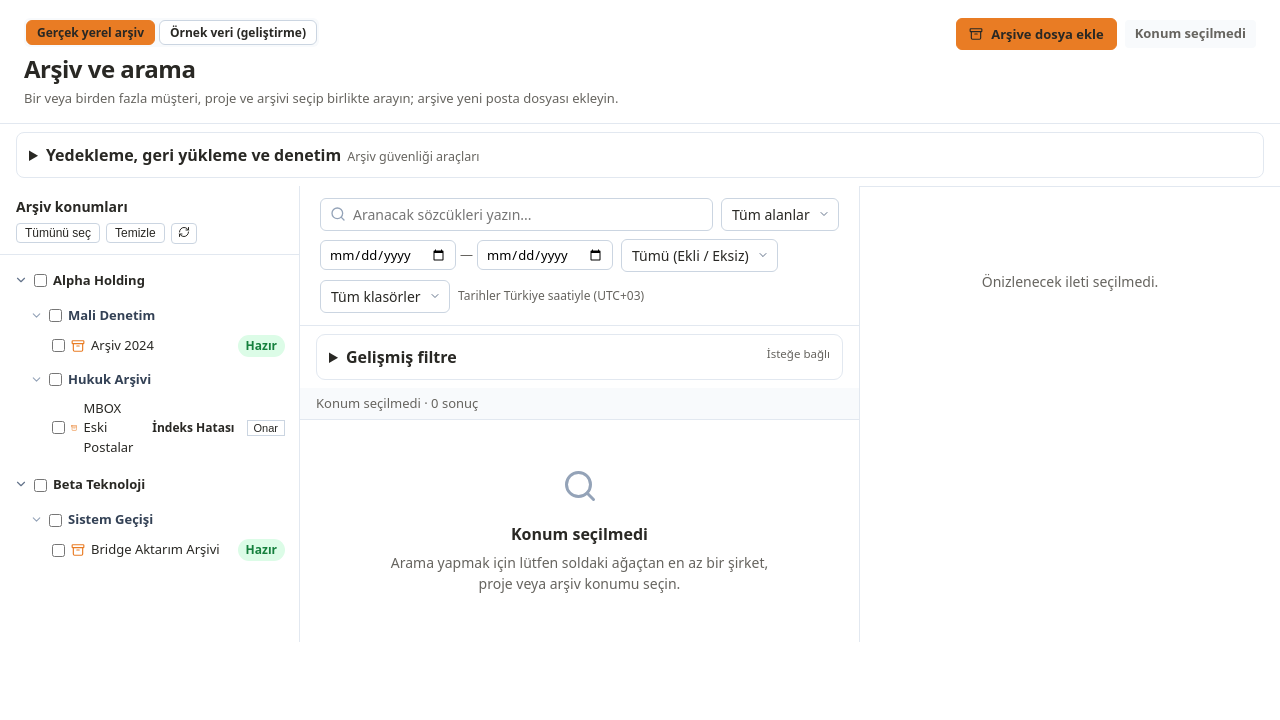
Test: TASK-018 Local Archive and Search Frontend Tests › AddArchiveModal has no user-editable sourceJobId textbox, presents readable bridge-export selection, and enforces frozen company/project
The width and height of the screenshot is (1280, 720).
Open add modal
What coordinates should you click on to do the following:
click the button with test id "archive-open-add-modal-btn"
I would click on:
 (1036, 34)
Its box is x1=956 y1=18 x2=1117 y2=50.
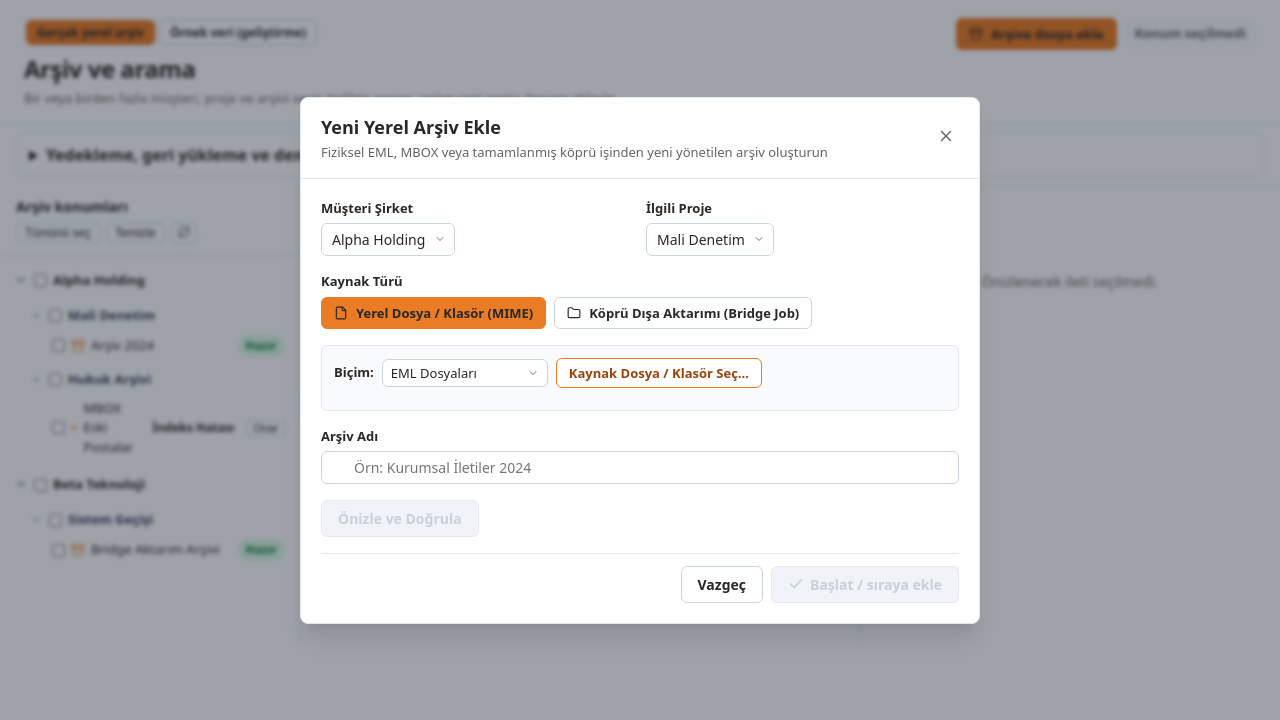
Result: the element with test id "archive-add-modal" is shown at x1=321 y1=199 x2=959 y2=602
Result: the dropdown with test id "archive-add-company-select" is shown at x1=321 y1=222 x2=455 y2=256
Result: the dropdown with test id "archive-add-project-select" is shown at x1=646 y1=222 x2=774 y2=256
Switch to Bridge Export mode
What coordinates should you click on to do the following:
click the button with test id "source-type-bridge-btn"
I would click on:
 (683, 313)
Its box is x1=554 y1=297 x2=812 y2=329.
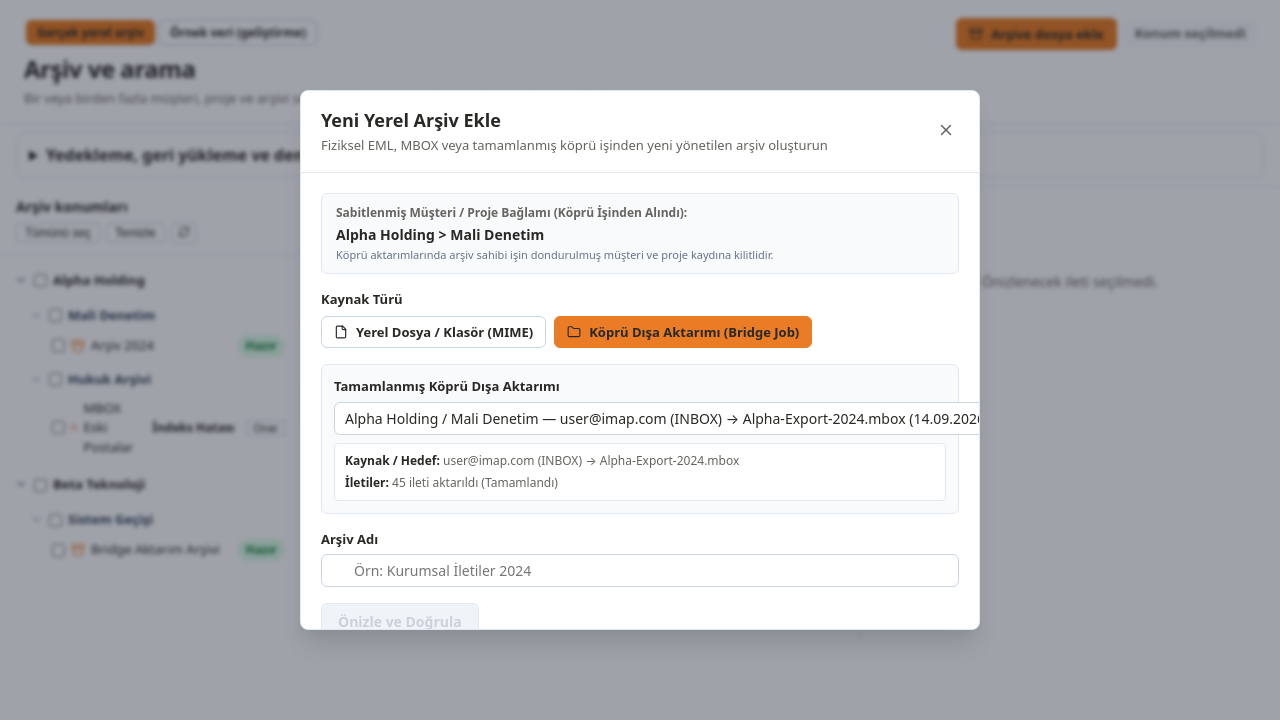
Result: the dropdown with test id "archive-completed-bridge-jobs-select" is shown at x1=334 y1=402 x2=979 y2=435
Result: the element with test id "archive-frozen-owner-context" shows "Alpha Holding > Mali Denetim" at x1=321 y1=193 x2=959 y2=274
Result: the dropdown with test id "archive-add-company-select" is gone
Switch back to MIME mode: separate file selection restores company/project selectors
What coordinates should you click on to do the following:
click the button with test id "source-type-mime-btn"
I would click on:
 (434, 332)
Its box is x1=321 y1=316 x2=546 y2=348.
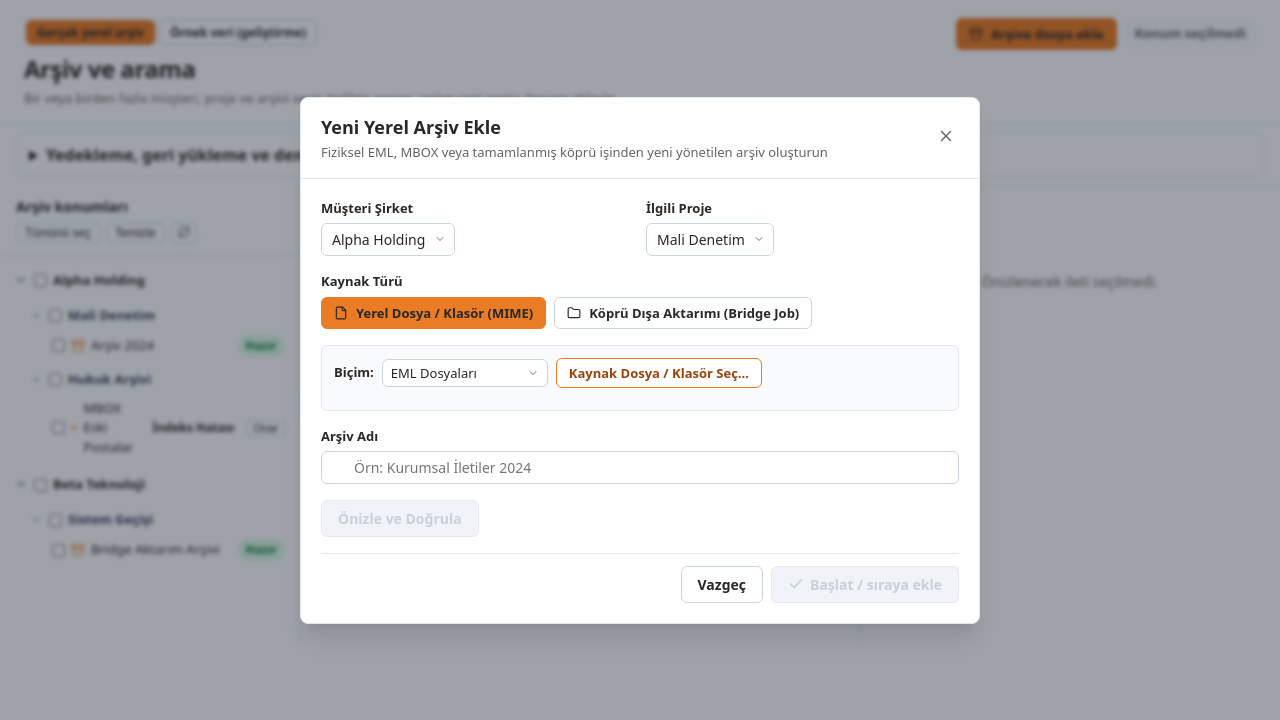
Result: the dropdown with test id "archive-add-company-select" is shown at x1=321 y1=222 x2=455 y2=256
Result: the dropdown with test id "archive-add-project-select" is shown at x1=646 y1=222 x2=774 y2=256
